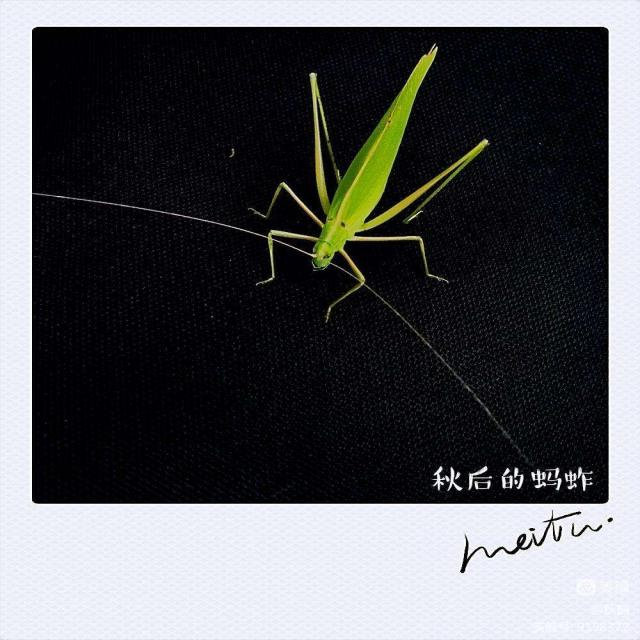ZhaMeng: (251, 36, 506, 312)
